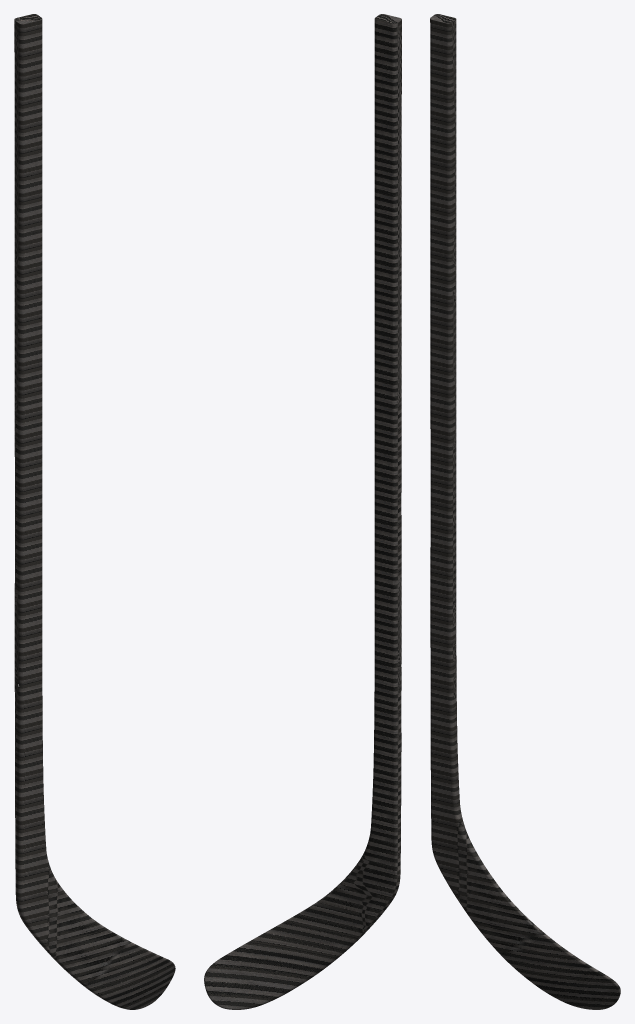
3 renders of one model, left to right at view 1: azimuth 30°, elevation 25°; view 2: azimuth 150°, elevation 25°; view 3: azimuth 330°, elevation 25°, orthographic. The views are drawn at different scales.
Parts seen in each view (by area): view 1: geometry_0; view 2: geometry_0; view 3: geometry_0.
Part boxes in pixels (box(x1,y1,x2,y2)): geometry_0: box(14, 14, 175, 1009); geometry_0: box(204, 14, 401, 1009); geometry_0: box(430, 14, 620, 1009).
Bounding box in the file's own units: 233 × 1285 × 63.78.
Materials: 1 (1 with a texture image).
